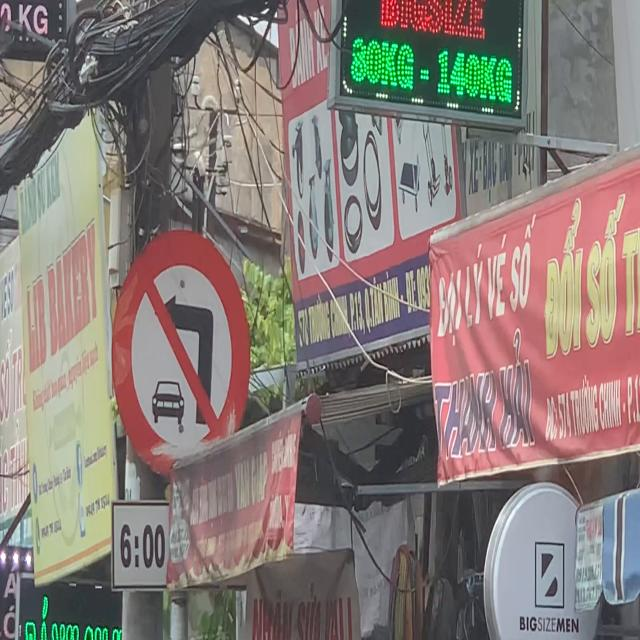Cam re trai: (110, 229, 252, 480)
